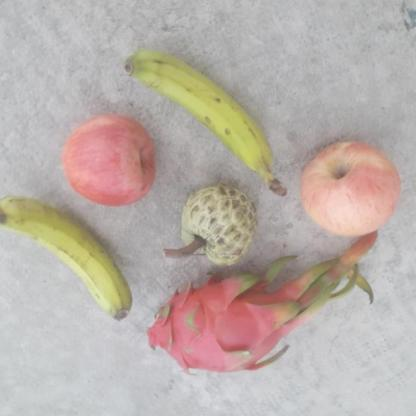annona: (168, 184, 258, 269)
apple: (294, 138, 404, 236), (57, 115, 158, 208)
banana: (119, 48, 288, 198), (0, 197, 132, 320)
pitaya: (146, 266, 300, 375)
